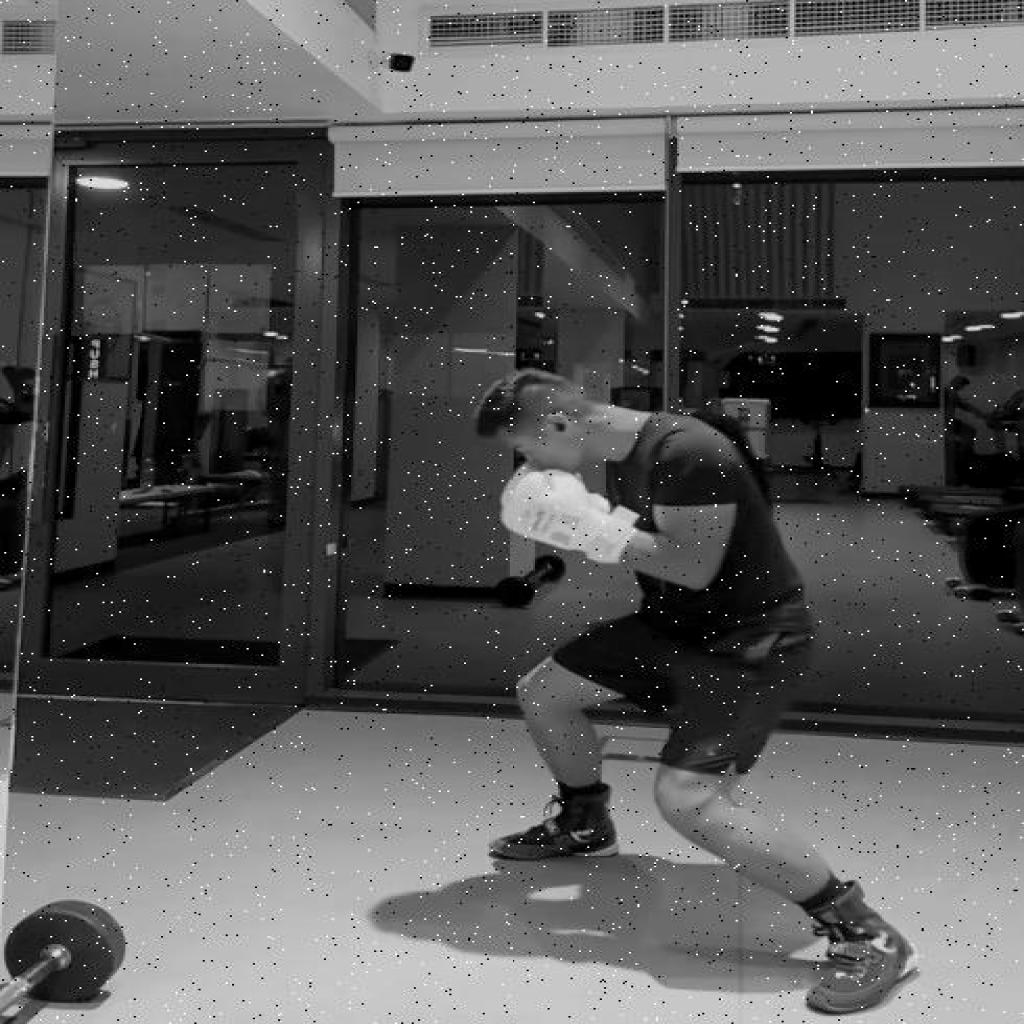no punch: (480, 362, 926, 1018)
